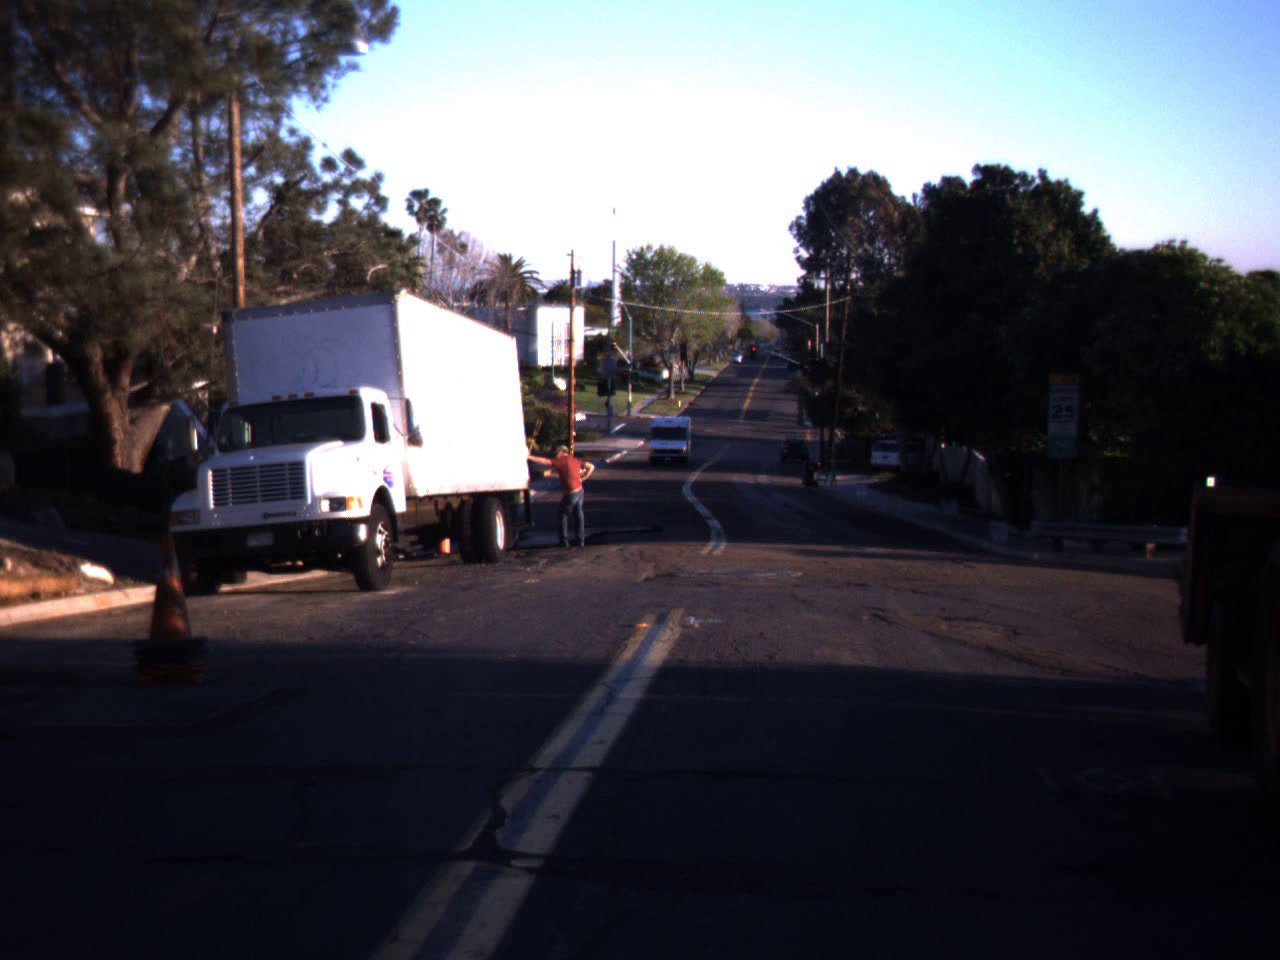stop: (743, 343, 764, 370), (617, 368, 632, 390)
